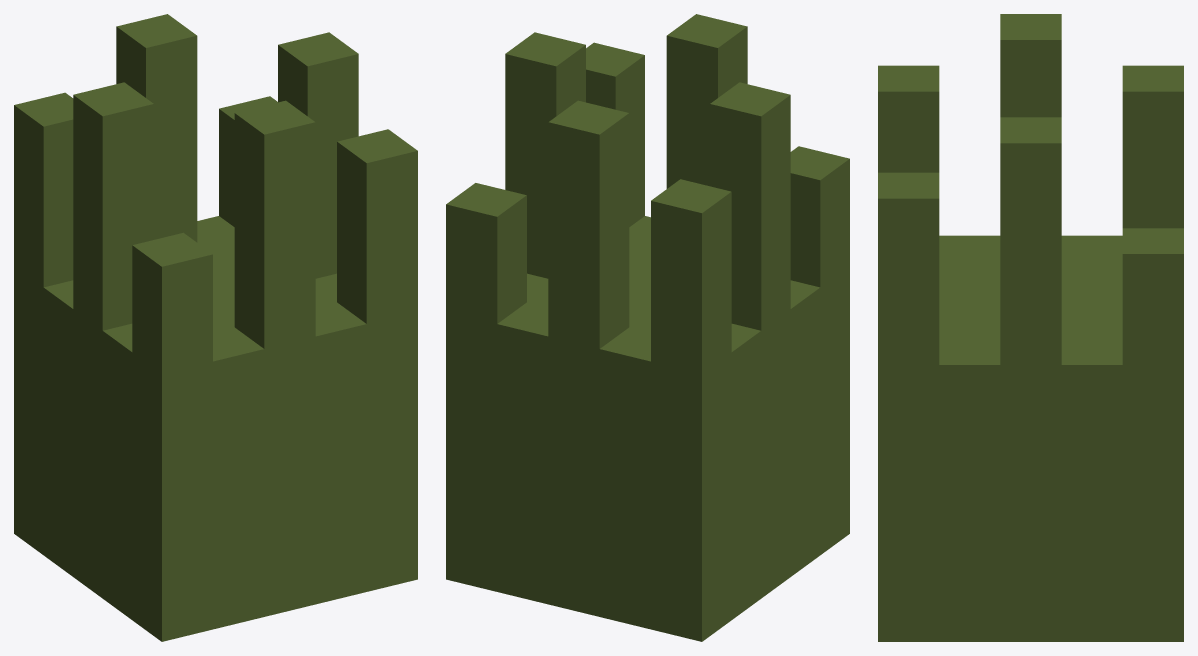
File: cao.obj
The picture shows the model from 3 angles, left to right: view 1: azimuth 30°, elevation 25°; view 2: azimuth 150°, elevation 25°; view 3: azimuth 270°, elevation 25°; orthographic projection. The views are drawn at different scales.
Bounding box in the file's own units: 5 × 9 × 5.
Materials: 1 (1 with a texture image).
